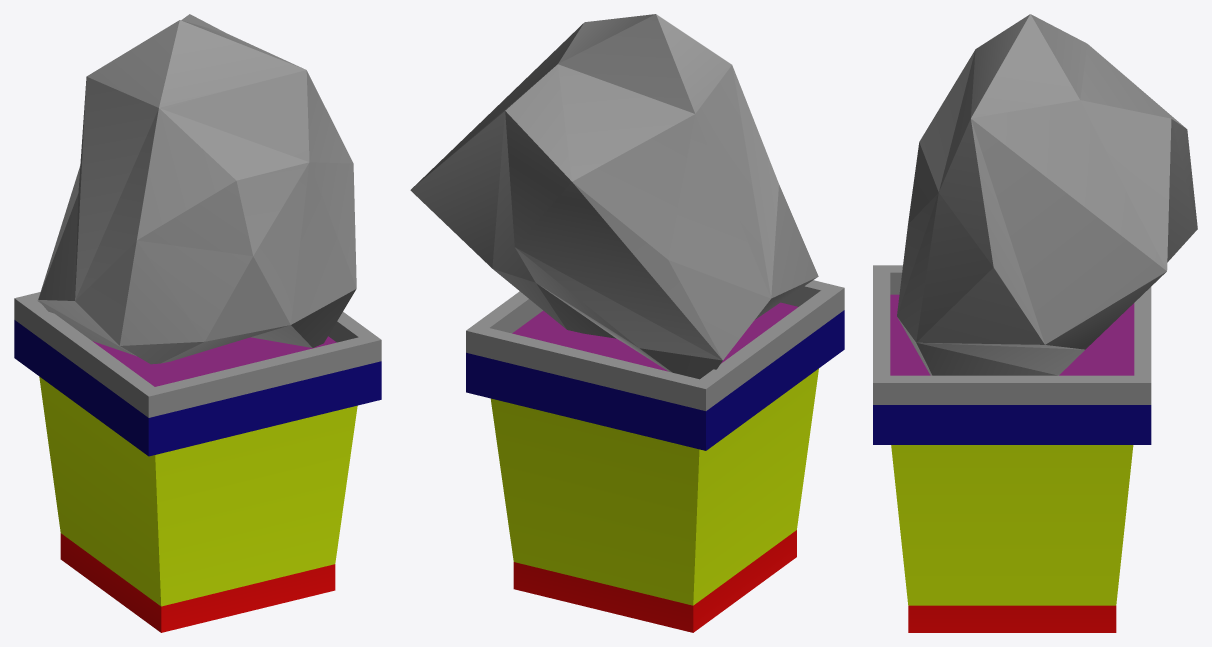
File: store_bush_00.fbx
3 views of the same model, side by side, from view 1: azimuth 30°, elevation 25°; view 2: azimuth 150°, elevation 25°; view 3: azimuth 270°, elevation 25° (orthographic). The views are drawn at different scales.
Visible parts, largest first — view 1: Hedra001, Box001; view 2: Hedra001, Box001; view 3: Hedra001, Box001.
Boxes of the visible parts, box(x1,y1,x2,y2) form: Hedra001: box(38, 14, 356, 364); Box001: box(14, 292, 381, 632); Hedra001: box(410, 14, 818, 379); Box001: box(466, 280, 844, 632); Hedra001: box(897, 14, 1197, 375); Box001: box(873, 265, 1151, 632).
Bounding box in the file's own units: 55.12 × 52.44 × 102.
